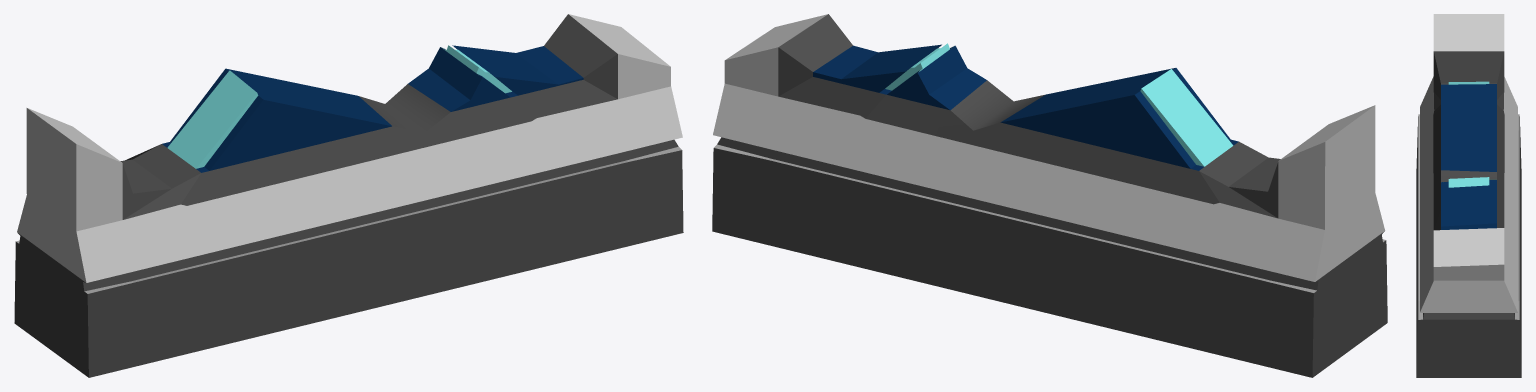
The model's file is Outer_Wall_Destroyed_C.fbx.
3 renders of one model, left to right at view 1: azimuth 30°, elevation 25°; view 2: azimuth 150°, elevation 25°; view 3: azimuth 270°, elevation 25°, orthographic. The views are drawn at different scales.
Visible parts, largest first — view 1: Outer_Wall_Destroyed_C; view 2: Outer_Wall_Destroyed_C; view 3: Outer_Wall_Destroyed_C.
Part boxes in pixels (x1,y1,x2,y2): Outer_Wall_Destroyed_C: (14,14,683,377); Outer_Wall_Destroyed_C: (712,14,1387,377); Outer_Wall_Destroyed_C: (1416,14,1521,377).
Bounding box in the file's own units: 5.84 × 1.26 × 2.11.
